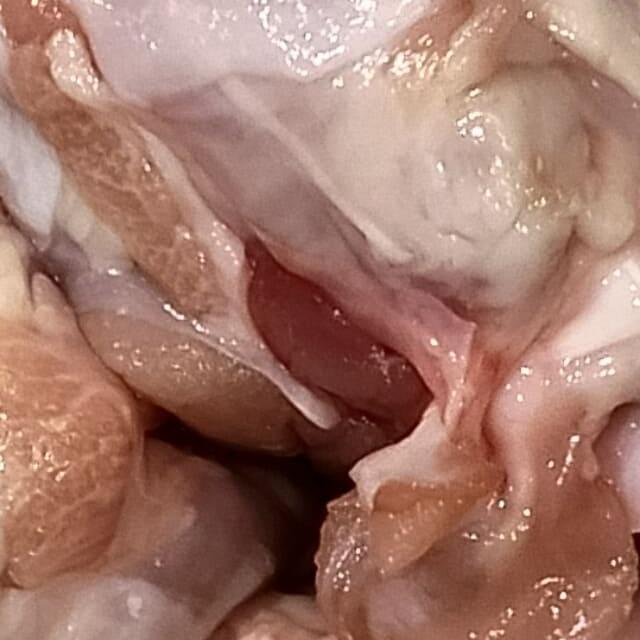chicken: (0, 0, 640, 528), (0, 0, 292, 640)
